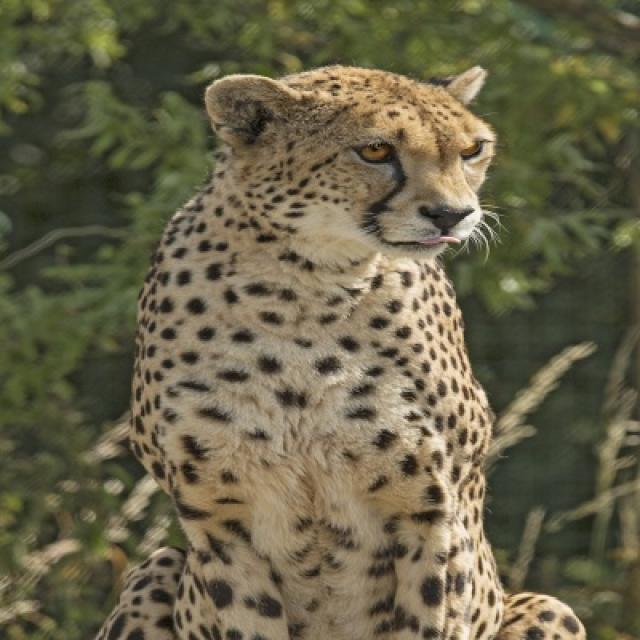Cheetah: (96, 62, 594, 638)
